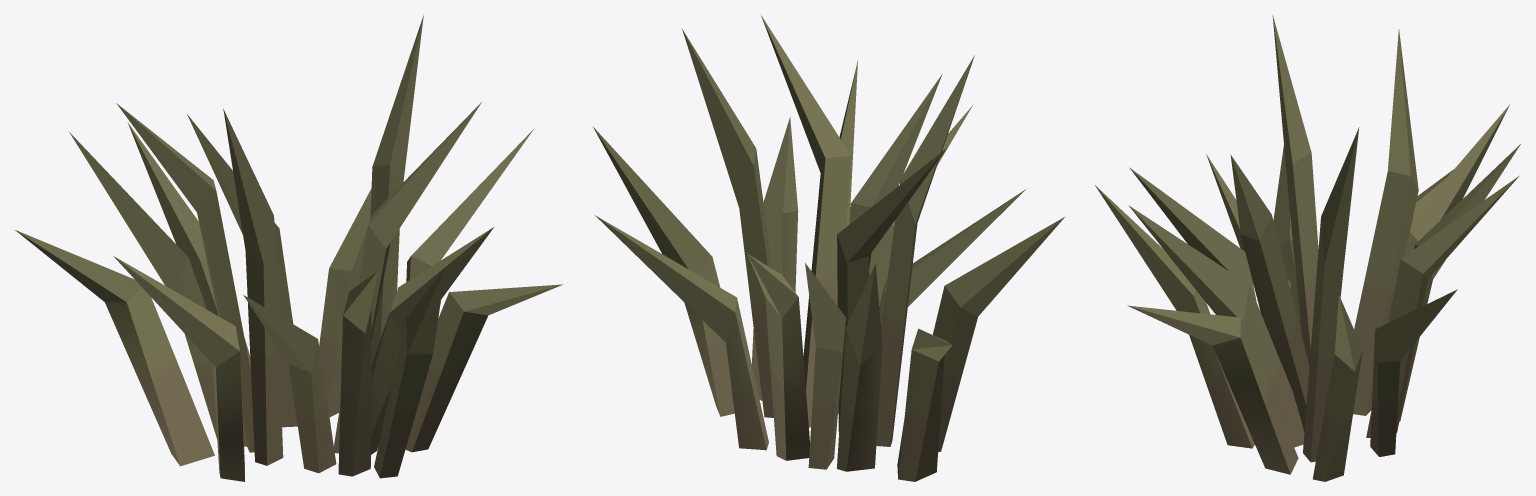
File: SM_Env_Grass_03.glb
3 renders of one model, left to right at view 1: azimuth 30°, elevation 25°; view 2: azimuth 150°, elevation 25°; view 3: azimuth 270°, elevation 25°, orthographic. The views are drawn at different scales.
Parts seen in each view (by area): view 1: SM_Env_Grass_03; view 2: SM_Env_Grass_03; view 3: SM_Env_Grass_03.
Part boxes in pixels (<box>): SM_Env_Grass_03: <box>15,15,563,481</box>; SM_Env_Grass_03: <box>593,15,1065,481</box>; SM_Env_Grass_03: <box>1095,15,1520,481</box>.
Bounding box in the file's own units: 1.34 × 1.11 × 1.18.
1 material, 1 textured.
